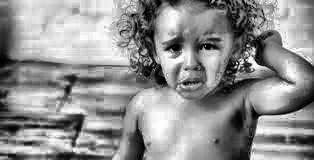sad: (153, 12, 229, 103)
